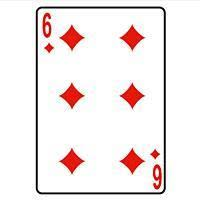six of diamonds: (37, 7, 165, 195)
